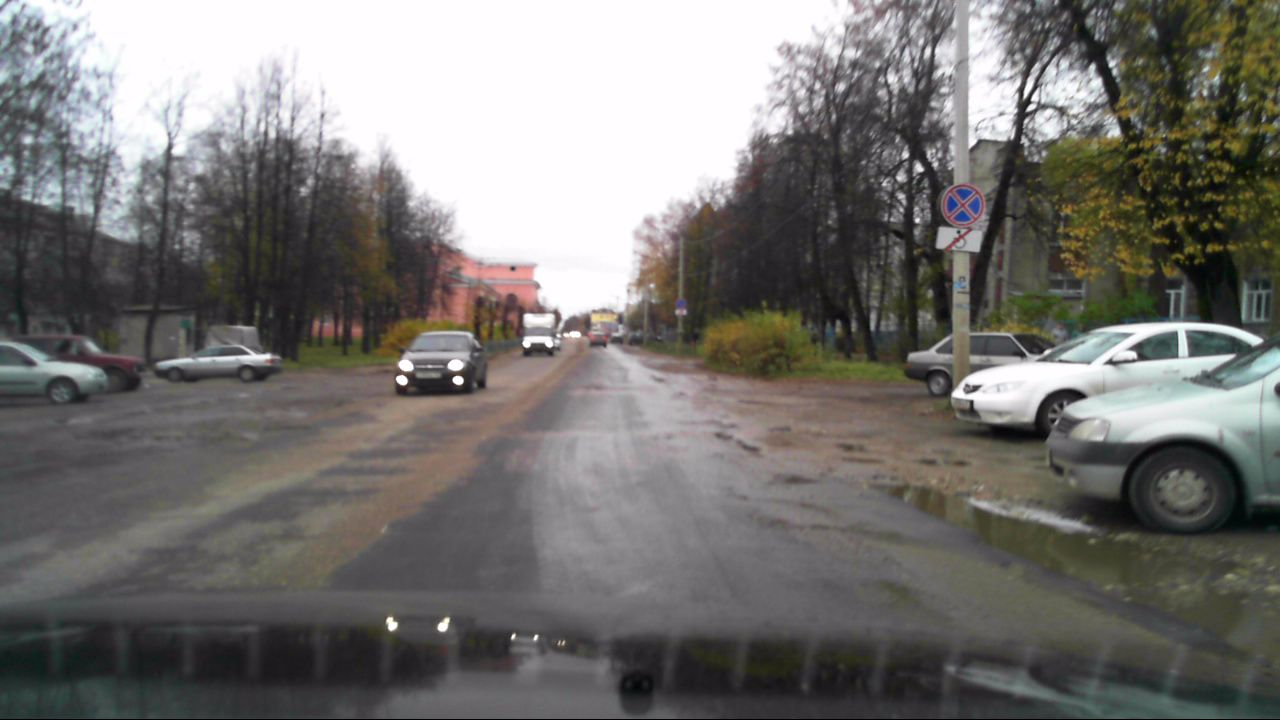No Parking: (941, 184, 985, 228)
